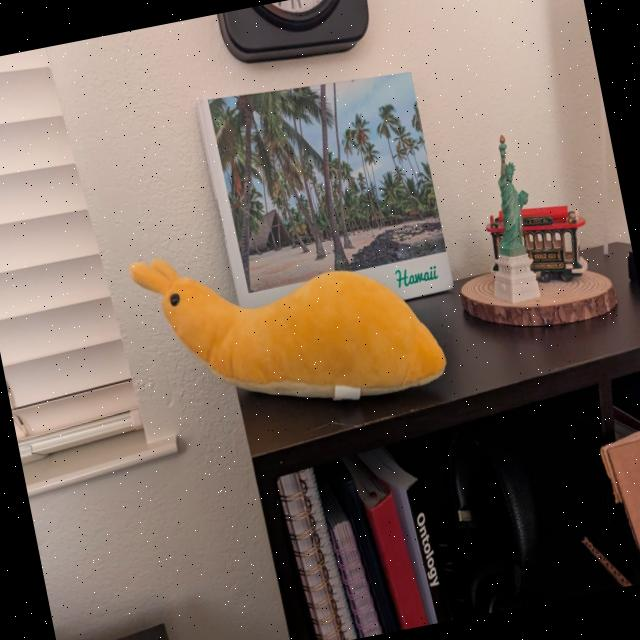banana-slug-toy: (121, 187, 462, 452)
